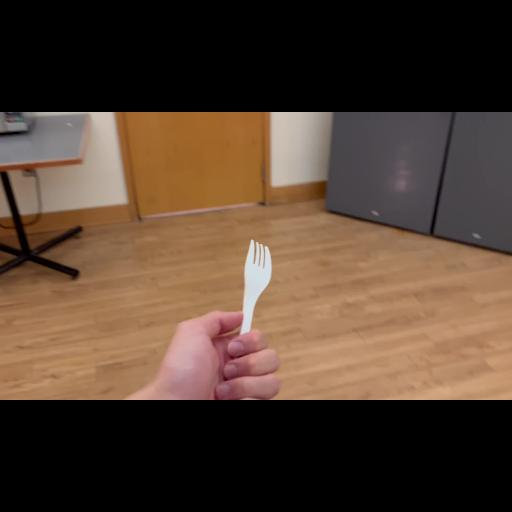utensil: (237, 235, 277, 343)
